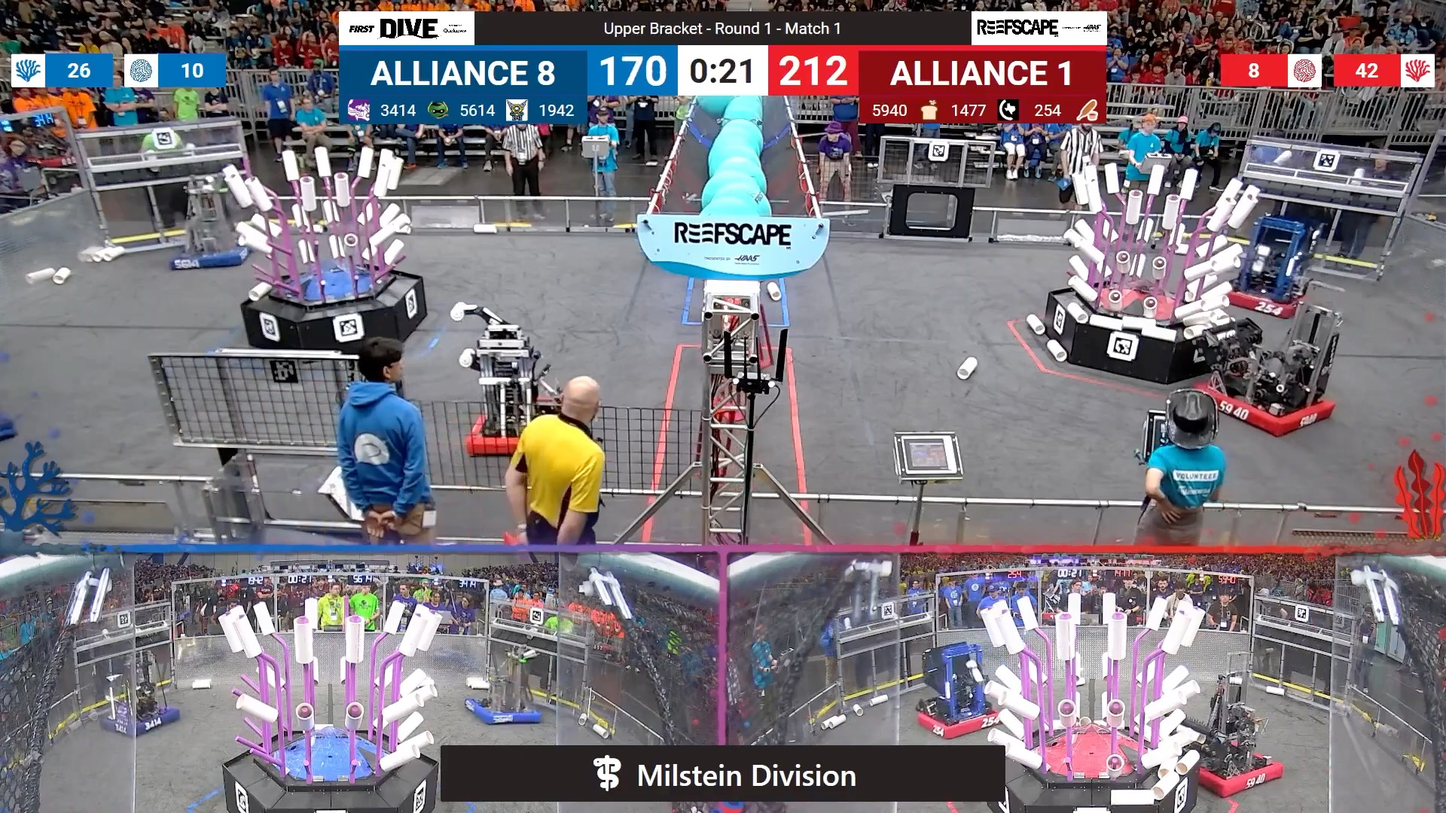bumpers: (1188, 375, 1349, 443), (1183, 746, 1293, 799), (1219, 281, 1319, 322), (460, 411, 541, 458), (96, 703, 186, 743), (167, 239, 264, 276), (912, 703, 1004, 739), (460, 696, 545, 732)
